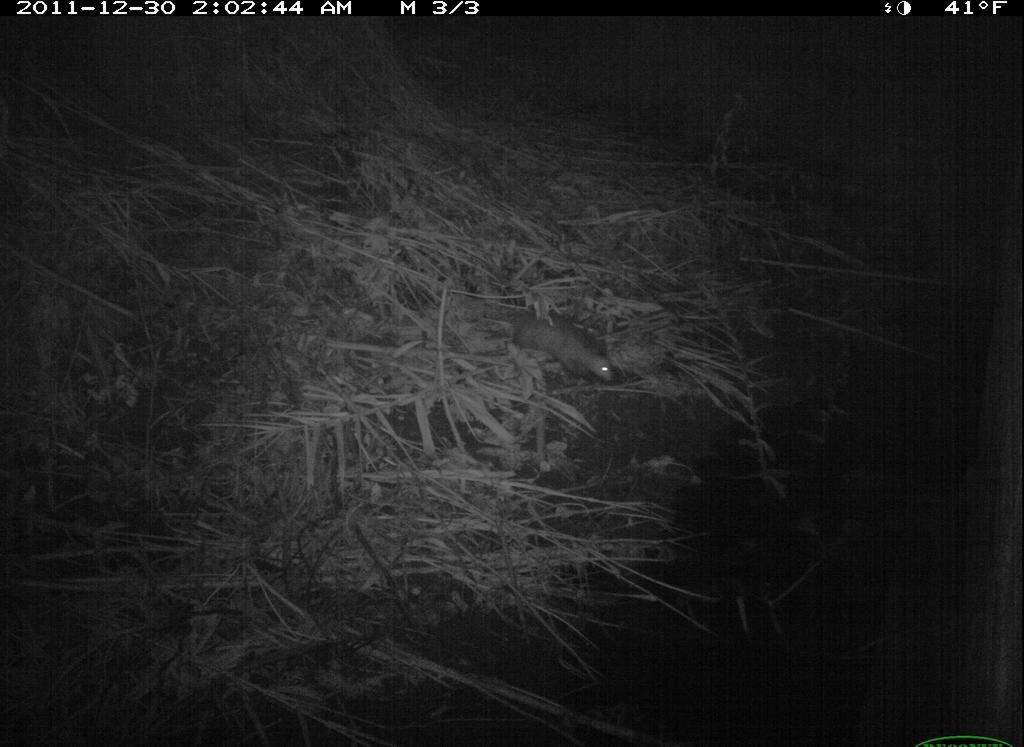opossum: (478, 289, 642, 400)
